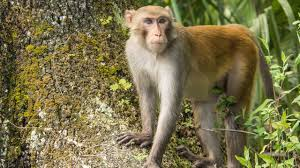monkey: (92, 1, 276, 162)
